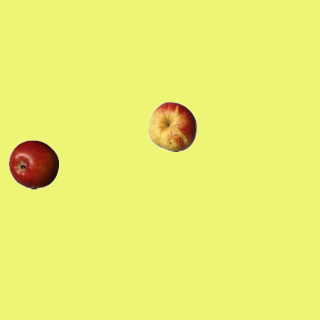Apple Braeburn: (8, 139, 58, 189)
Apple Red Yellow 1: (147, 101, 197, 151)
